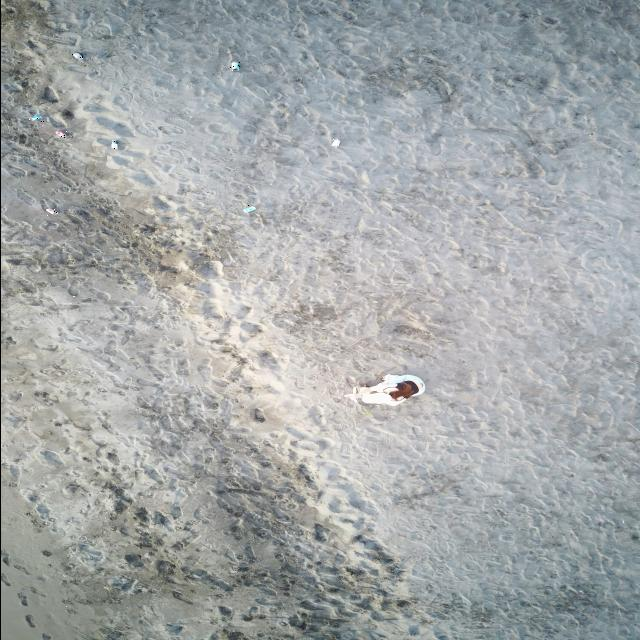Garbage: (344, 373, 424, 404), (44, 85, 57, 100), (212, 260, 223, 276), (253, 407, 264, 422), (60, 108, 72, 118), (71, 51, 83, 59), (55, 128, 67, 136), (31, 112, 43, 120), (243, 204, 255, 212), (331, 137, 340, 147), (230, 60, 238, 70), (45, 207, 59, 212), (111, 140, 118, 148)
